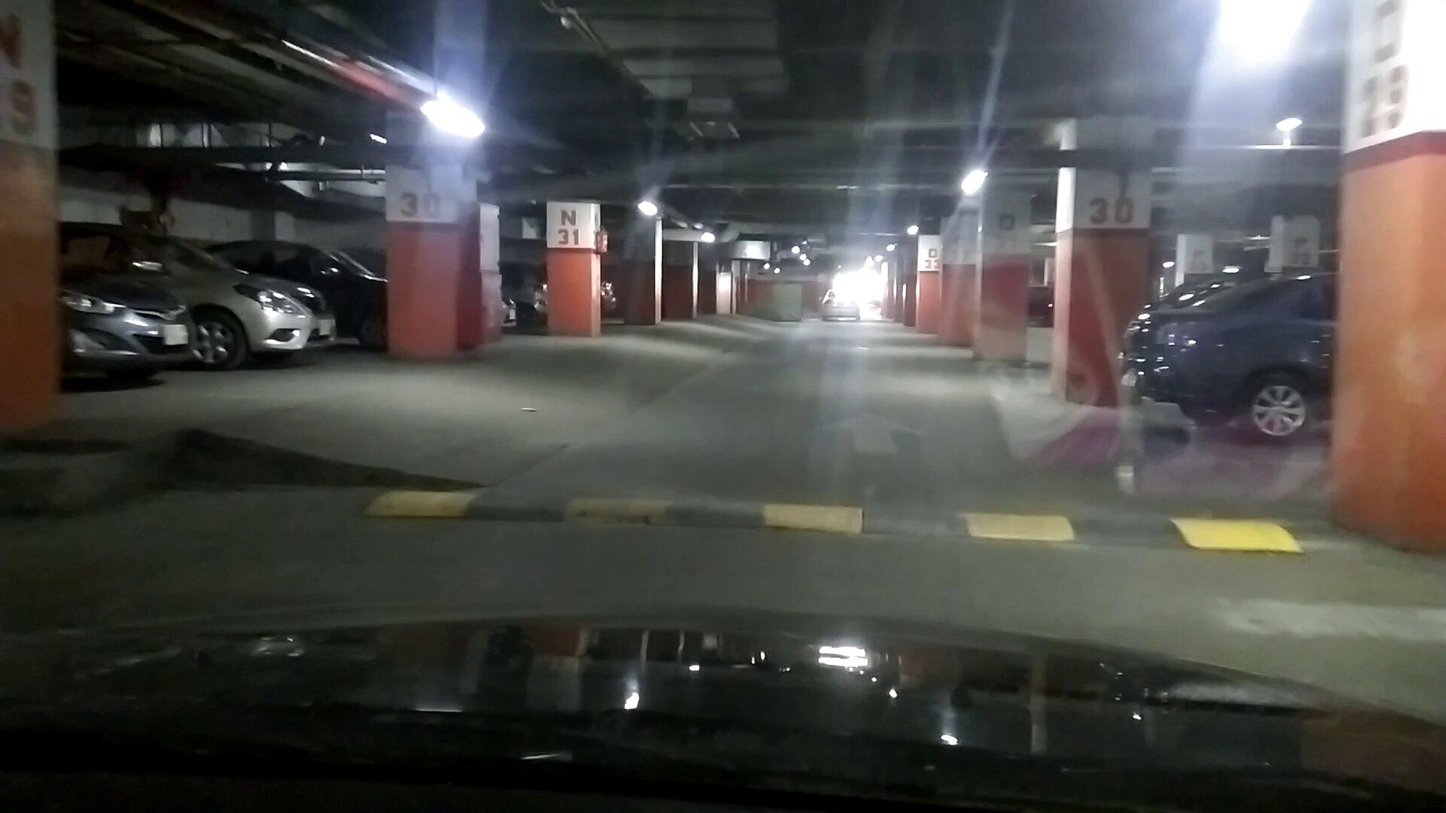Bump: (362, 485, 1302, 552)
